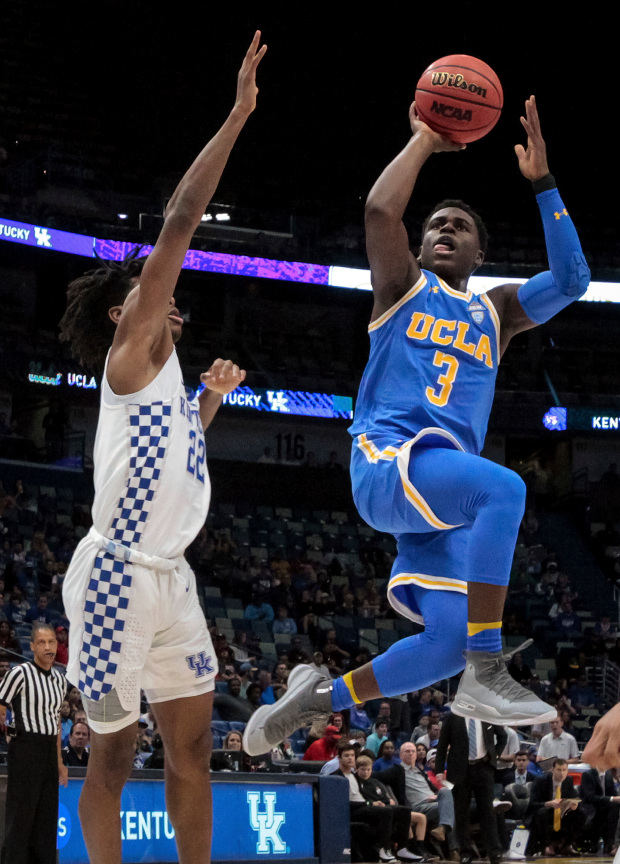ball: (403, 44, 513, 155)
defense: (26, 21, 272, 864)
shoot: (293, 52, 594, 766)
